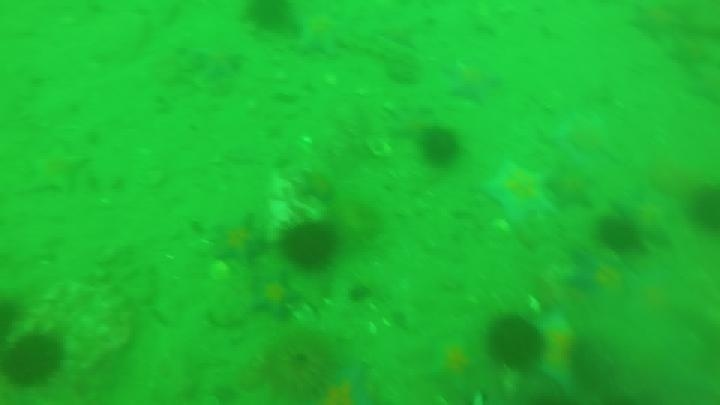echinus: (259, 331, 339, 403), (3, 331, 65, 388), (485, 314, 544, 372), (280, 220, 339, 271), (418, 126, 462, 169), (685, 181, 720, 235), (596, 215, 643, 255), (241, 1, 296, 34), (1, 295, 27, 339), (346, 281, 374, 305)
starfish: (480, 159, 556, 227), (544, 110, 621, 169), (423, 335, 489, 401), (565, 251, 636, 312), (532, 310, 584, 390), (614, 188, 677, 248), (25, 146, 88, 195), (210, 215, 269, 267), (443, 58, 501, 106), (293, 11, 349, 58), (248, 273, 302, 321), (316, 363, 377, 404), (626, 3, 685, 45), (546, 166, 597, 211), (191, 45, 245, 82), (387, 106, 437, 144), (667, 36, 714, 71), (296, 168, 339, 205)
